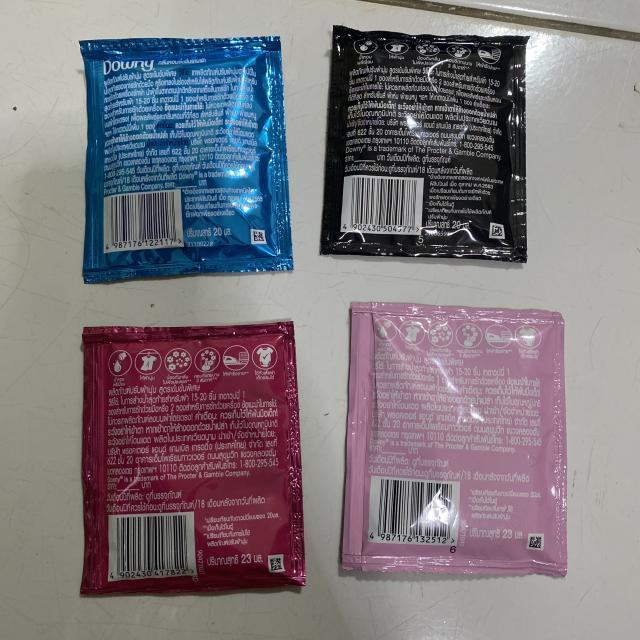plastik: (342, 302, 568, 576), (81, 322, 304, 594), (80, 38, 292, 282), (321, 26, 528, 262)
